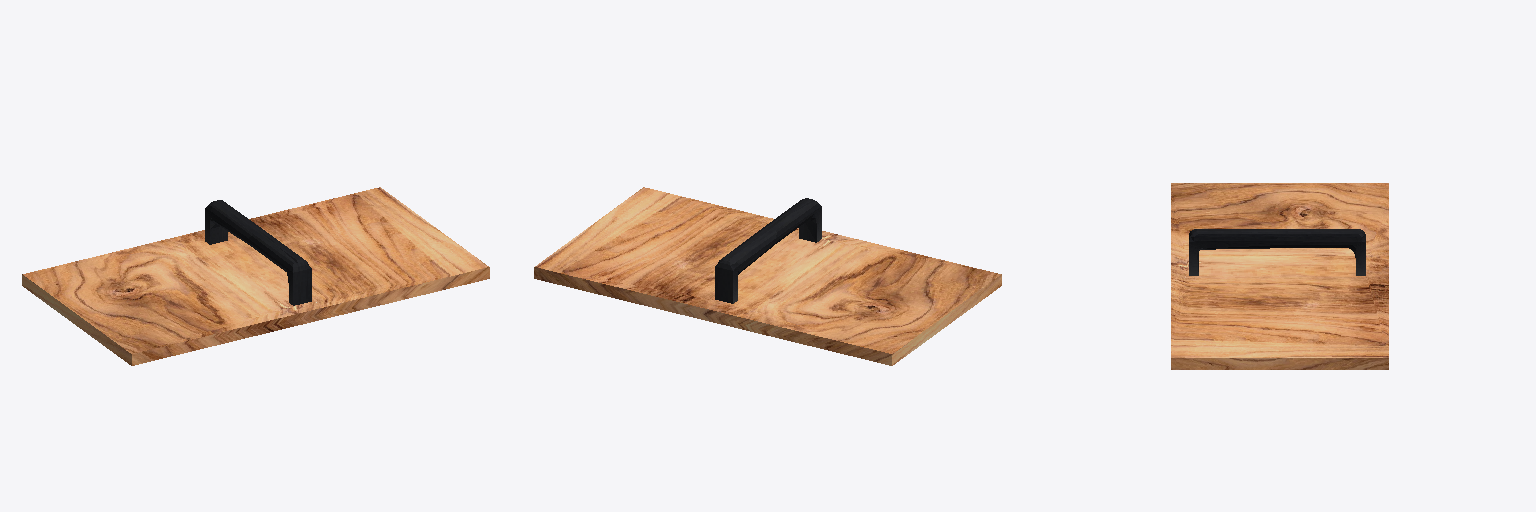
3 renders of one model, left to right at view 1: azimuth 30°, elevation 25°; view 2: azimuth 150°, elevation 25°; view 3: azimuth 270°, elevation 25°, orthographic.
Parts seen in each view (by area): view 1: sliding_door; view 2: sliding_door; view 3: sliding_door.
Part boxes in pixels (bbox=[...]): sliding_door: bbox=[22, 187, 489, 365]; sliding_door: bbox=[534, 187, 1001, 365]; sliding_door: bbox=[1171, 183, 1388, 369].
Bounding box in the file's own units: 0.63 × 0.0894 × 0.333.
Materials: 1 (1 with a texture image).